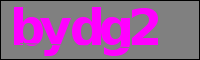2: (132, 8, 159, 47)
b: (12, 6, 41, 48)
d: (72, 3, 101, 46)
g: (103, 16, 130, 57)
y: (43, 16, 71, 57)
